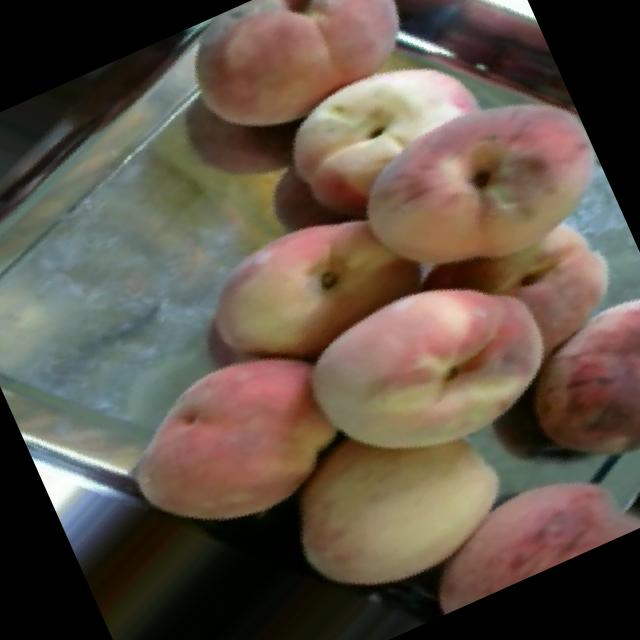Fruit: (255, 207, 613, 534), (313, 43, 640, 361), (247, 352, 567, 640), (154, 146, 474, 424), (82, 298, 387, 572), (149, 0, 452, 189), (466, 253, 640, 527)
